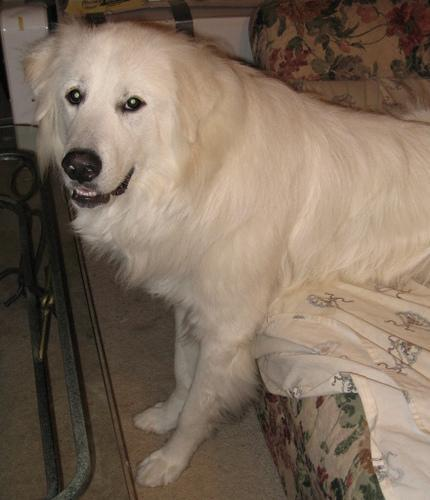Great_Pyrenees: (17, 23, 428, 490)
